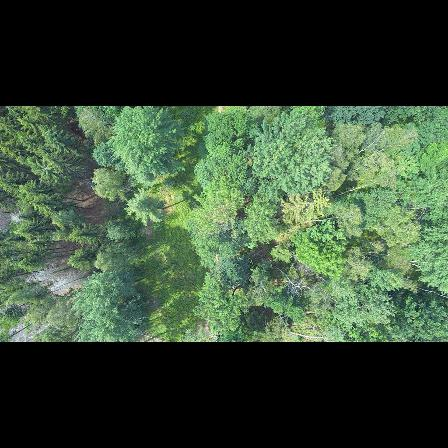Dead: (52, 273, 94, 291), (27, 265, 71, 280), (2, 322, 34, 340), (7, 210, 22, 226)
